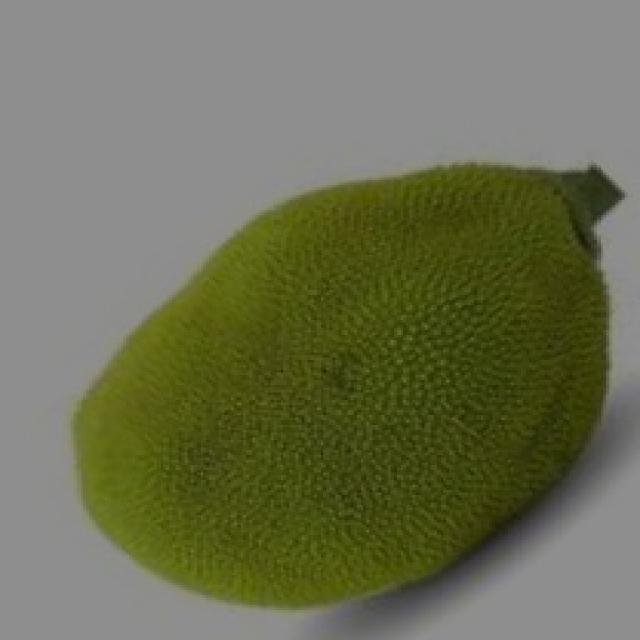Fruit: (243, 155, 637, 623)
